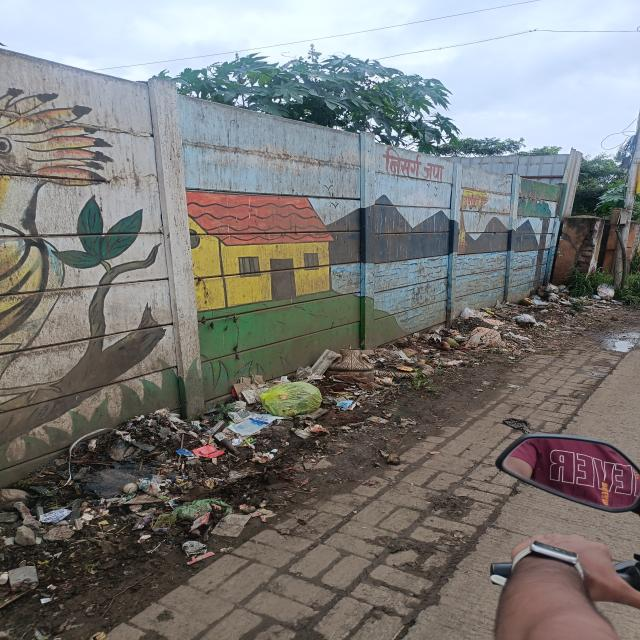garbage: (226, 302, 538, 453), (1, 414, 264, 586), (514, 284, 622, 338)
